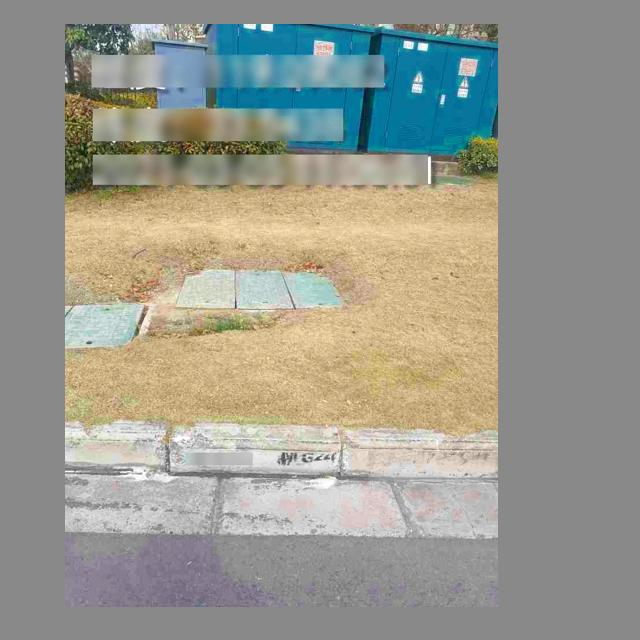good: (175, 264, 346, 310), (65, 302, 155, 348)
